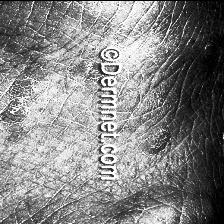Toxin: (138, 127, 178, 153), (0, 100, 42, 120)
